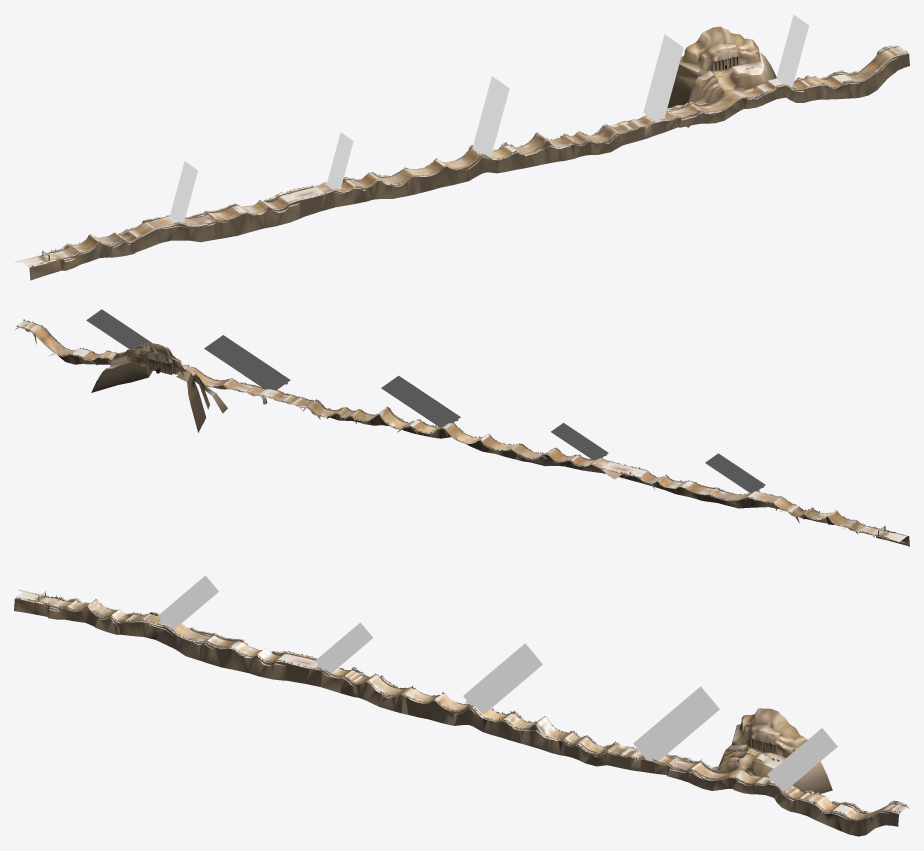
File: Desert_09.fbx
3 renders of one model, top to bottom at view 1: azimuth 30°, elevation 25°; view 2: azimuth 150°, elevation 25°; view 3: azimuth 330°, elevation 25°, orthographic.
Parts seen in each view (by area): view 1: Mountain_01, Light_01, Road_01, Tree_01, Ground_01; view 2: Mountain_01, Light_01, Road_01, Tree_01, Ground_01; view 3: Mountain_01, Light_01, Road_01, Tree_01, Ground_01.
Boxes of the visible parts, x1,y1,x2,y2 form: Mountain_01: (28, 26, 909, 280); Light_01: (170, 14, 808, 223); Road_01: (21, 47, 906, 265); Tree_01: (39, 45, 907, 263); Ground_01: (27, 46, 906, 266); Mountain_01: (15, 320, 909, 546); Light_01: (86, 309, 765, 492); Road_01: (16, 321, 906, 541); Tree_01: (16, 319, 895, 536); Ground_01: (15, 320, 906, 541); Mountain_01: (14, 596, 909, 836); Light_01: (158, 575, 837, 791); Road_01: (17, 592, 907, 819); Tree_01: (28, 595, 907, 820); Ground_01: (16, 593, 908, 819).
Bounding box in the file's own units: 96566 × 9756 × 7530.
